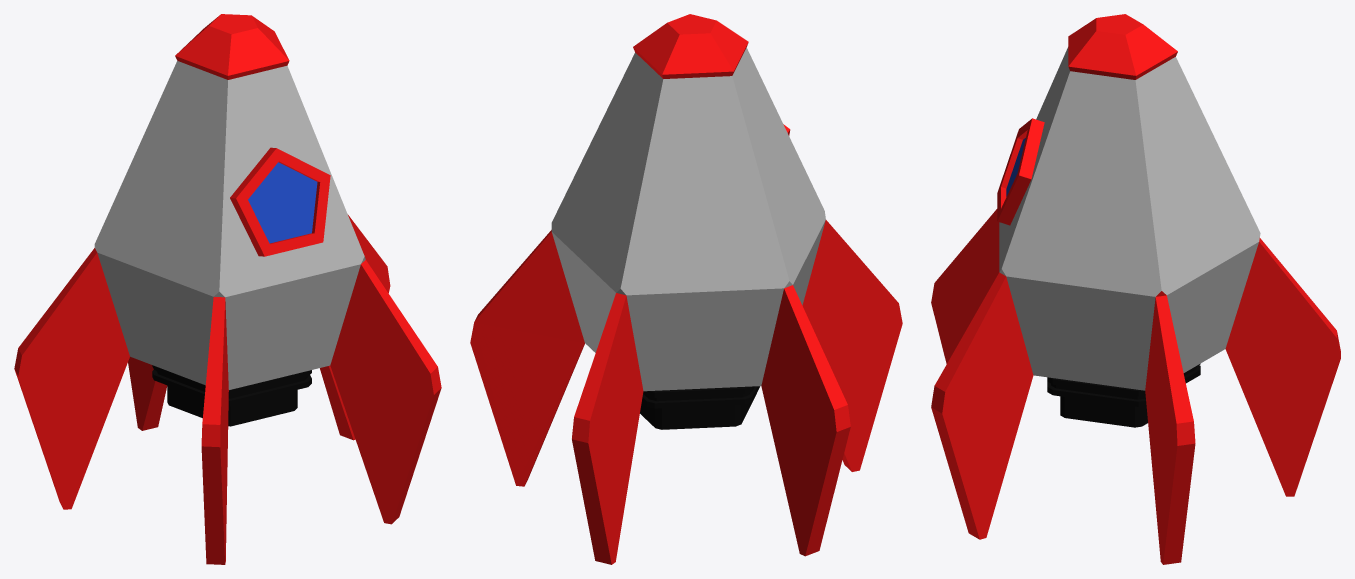
Rendered from rocket.obj.
The picture shows the model from 3 angles, left to right: view 1: azimuth 30°, elevation 25°; view 2: azimuth 150°, elevation 25°; view 3: azimuth 270°, elevation 25°; orthographic projection.
Visible parts, largest first — view 1: Rocket_Fuselage, Rocket_Fins, Rocket_Window, Rocket_Nose, Rocket_Thruster; view 2: Rocket_Fuselage, Rocket_Fins, Rocket_Nose, Rocket_Thruster; view 3: Rocket_Fuselage, Rocket_Fins, Rocket_Nose, Rocket_Thruster, Rocket_Window.
Part boxes in pixels (x1,y1,x2,y2): Rocket_Fuselage: (94,61,365,389); Rocket_Fins: (14,215,441,564); Rocket_Window: (230,147,330,256); Rocket_Nose: (175,14,289,79); Rocket_Thruster: (152,365,311,426); Rocket_Fuselage: (551,47,825,391); Rocket_Fins: (470,220,902,564); Rocket_Nose: (633,14,748,78); Rocket_Thruster: (640,386,760,429); Rocket_Fuselage: (999,47,1260,390); Rocket_Fins: (931,209,1340,564); Rocket_Nose: (1068,14,1177,79); Rocket_Thruster: (1047,363,1200,427); Rocket_Window: (997,118,1044,225).
Bounding box in the file's own units: 7.27 × 8.73 × 6.92.
